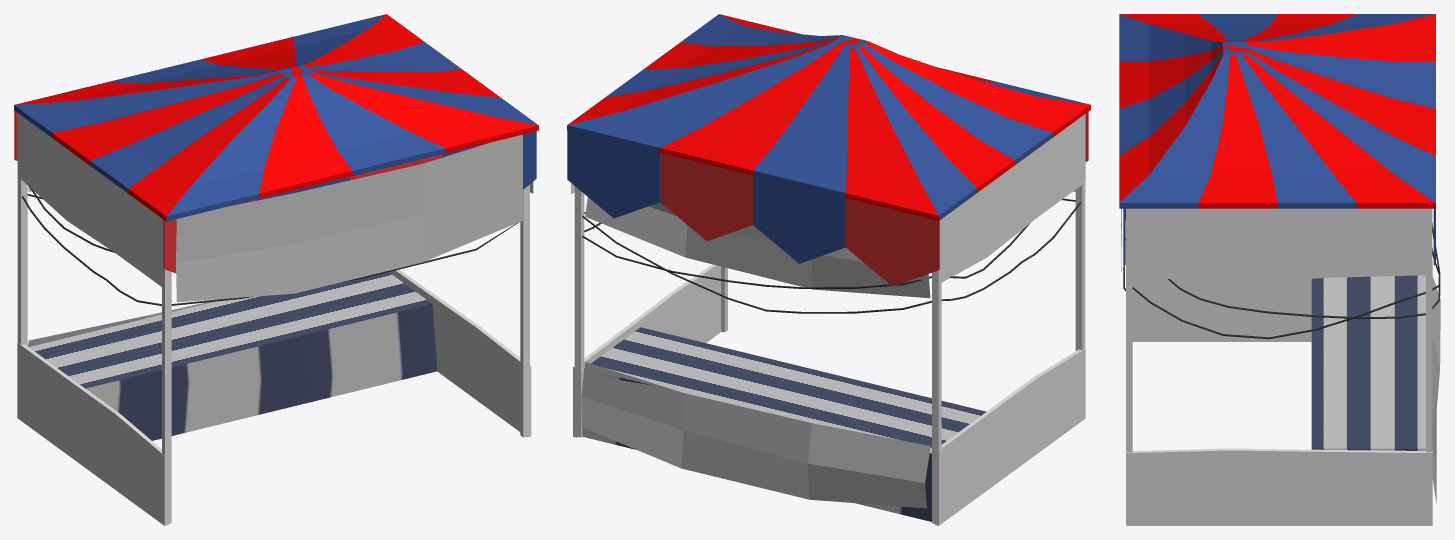
Rendered from stallVar1.fbx.
3 renders of one model, left to right at view 1: azimuth 30°, elevation 25°; view 2: azimuth 150°, elevation 25°; view 3: azimuth 270°, elevation 25°, orthographic. The views are drawn at different scales.
Parts seen in each view (by area): view 1: STALL.01, Stall.Banner, Top.Banner, Stall.R, Banner.R, Stall.L, Stall.Font.Back, Stall.string.02; view 2: STALL.01, Top.Banner, Stall.Font.Back, Stall.Banner, Stall.R, Banner.R, Stall.L, Stall.string.02, Stall.string; view 3: STALL.01, Stall.L, Banner.L, Stall.Banner, Stall.R, Top.Banner, Stall.string.02, Stall.string.
Part boxes in pixels (bbox=[...]): STALL.01: bbox=[14, 14, 538, 524]; Stall.Banner: bbox=[29, 272, 437, 440]; Top.Banner: bbox=[28, 134, 522, 346]; Stall.R: bbox=[17, 342, 168, 525]; Banner.R: bbox=[17, 113, 164, 288]; Stall.L: bbox=[389, 269, 531, 437]; Stall.Font.Back: bbox=[14, 110, 536, 273]; Stall.string.02: bbox=[22, 194, 518, 305]; STALL.01: bbox=[567, 14, 1090, 523]; Top.Banner: bbox=[581, 190, 1075, 508]; Stall.Font.Back: bbox=[567, 112, 1088, 286]; Stall.Banner: bbox=[582, 327, 986, 521]; Stall.R: bbox=[935, 348, 1085, 525]; Banner.R: bbox=[938, 114, 1085, 283]; Stall.L: bbox=[573, 264, 721, 437]; Stall.string.02: bbox=[582, 198, 1080, 313]; Stall.string: bbox=[582, 222, 1030, 288]; STALL.01: bbox=[1119, 14, 1435, 523]; Stall.L: bbox=[1126, 448, 1432, 525]; Banner.L: bbox=[1126, 208, 1432, 284]; Stall.Banner: bbox=[1311, 275, 1425, 450]; Stall.R: bbox=[1132, 261, 1432, 341]; Top.Banner: bbox=[1121, 208, 1440, 503]; Stall.string.02: bbox=[1123, 209, 1440, 339]; Stall.string: bbox=[1125, 223, 1440, 318].
Bounding box in the file's own units: 1134 × 1087 × 815.
